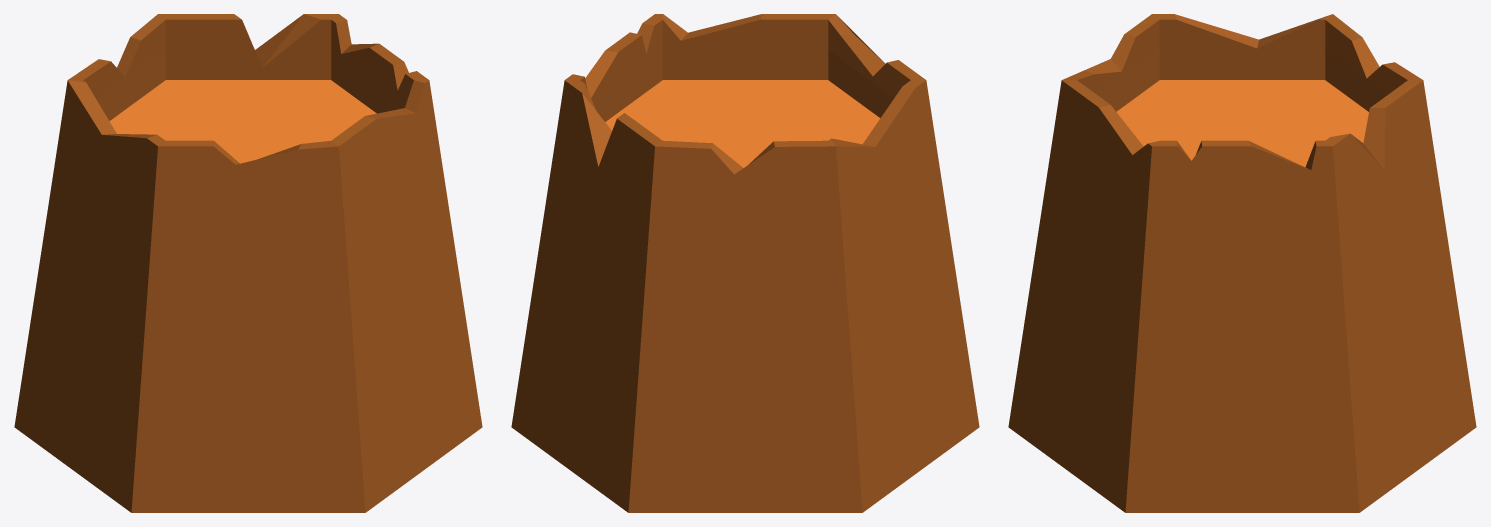
File: tree_base.gltf
3 renders of one model, left to right at view 1: azimuth 30°, elevation 25°; view 2: azimuth 150°, elevation 25°; view 3: azimuth 270°, elevation 25°, orthographic.
Visible parts, largest first — view 1: tree_base_base, tree_base_wood; view 2: tree_base_base, tree_base_wood; view 3: tree_base_base, tree_base_wood.
Part boxes in pixels (x1,y1,x2,y2): tree_base_base: (14,14,482,512); tree_base_wood: (109,80,376,163); tree_base_base: (511,14,979,512); tree_base_wood: (605,80,880,167); tree_base_base: (1008,14,1476,512); tree_base_wood: (1116,80,1368,167).
Size of the model in its own units: 1.87 by 1.77 by 2.16.
